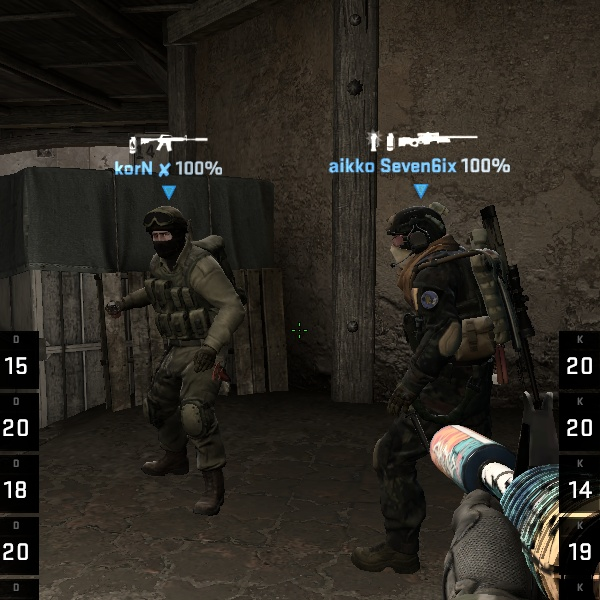ct_body: (286, 190, 523, 579), (102, 195, 246, 497)
ct_head: (381, 193, 462, 269), (134, 200, 199, 264)
